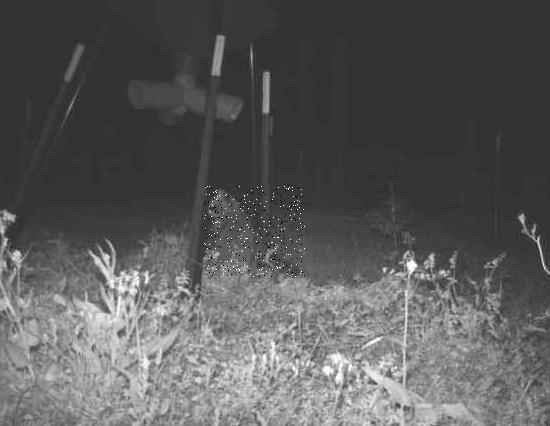Raccoon: (203, 187, 304, 278)
